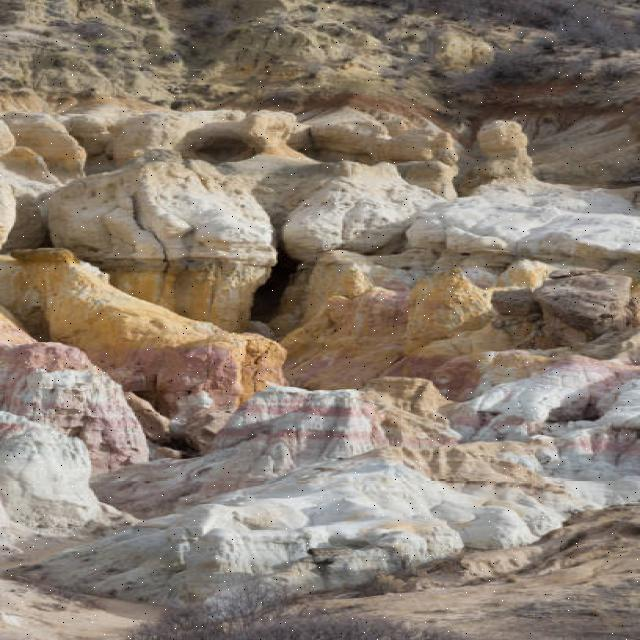Sedimentary: (3, 1, 640, 635)
